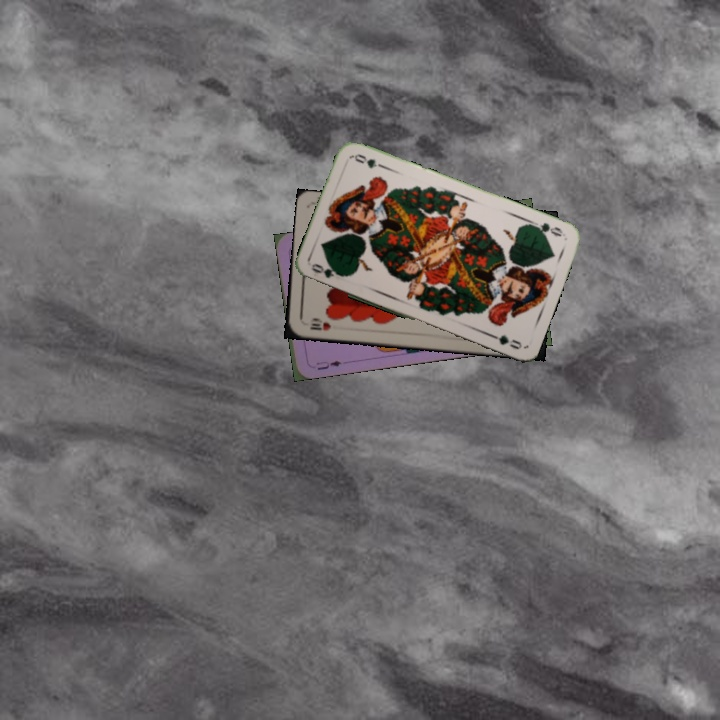EU: (313, 357, 344, 373)
GO: (308, 259, 348, 281), (527, 217, 566, 239)
H10: (306, 318, 333, 333)
